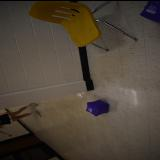cube: (139, 0, 160, 22), (86, 98, 110, 116)
